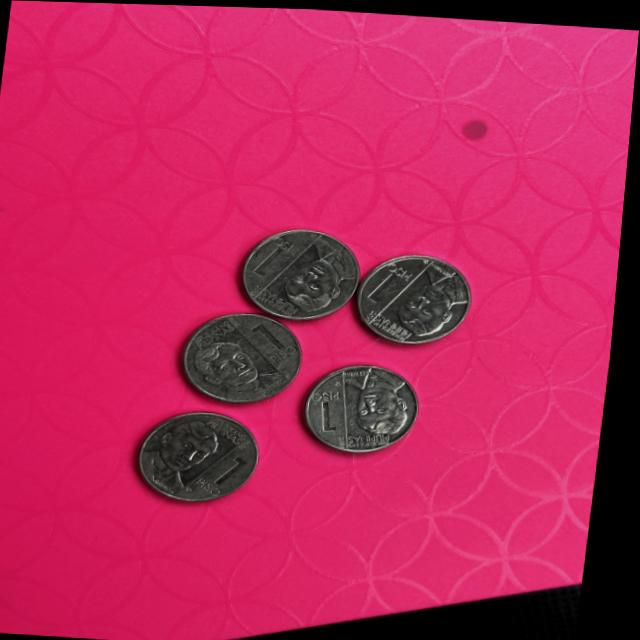1_New_Front: (249, 230, 307, 282), (247, 319, 301, 369), (206, 445, 255, 492), (370, 254, 406, 310), (318, 383, 350, 432)
